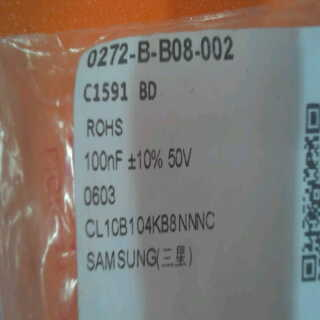100nF: (75, 146, 127, 174)
